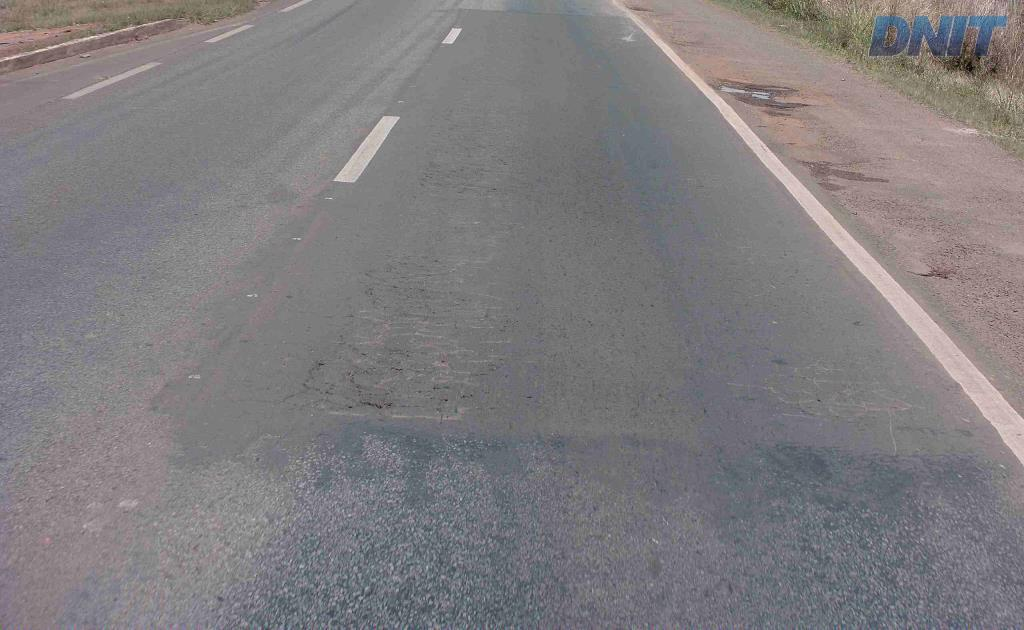crack: (355, 383, 396, 409)
